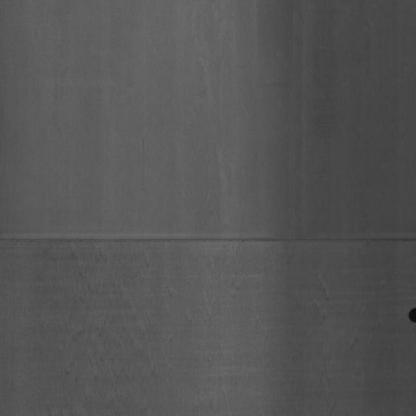punching_hole: (407, 301, 415, 325)
silk_spot: (55, 268, 169, 399)
welding_line: (2, 229, 415, 253)
